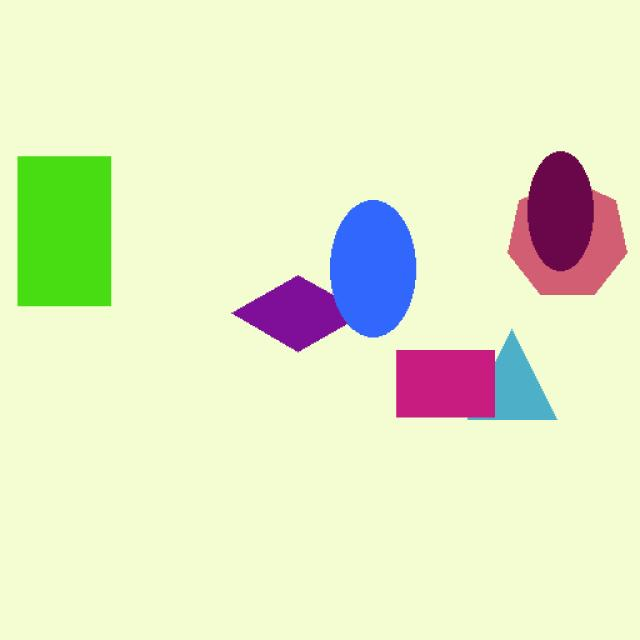Circle: (321, 190, 424, 352), (528, 147, 600, 281)
Heptagon: (500, 186, 640, 293)
Kite: (220, 253, 380, 361)
Rectangle: (10, 146, 132, 321), (388, 340, 506, 431)
Triangle: (462, 319, 576, 439)
